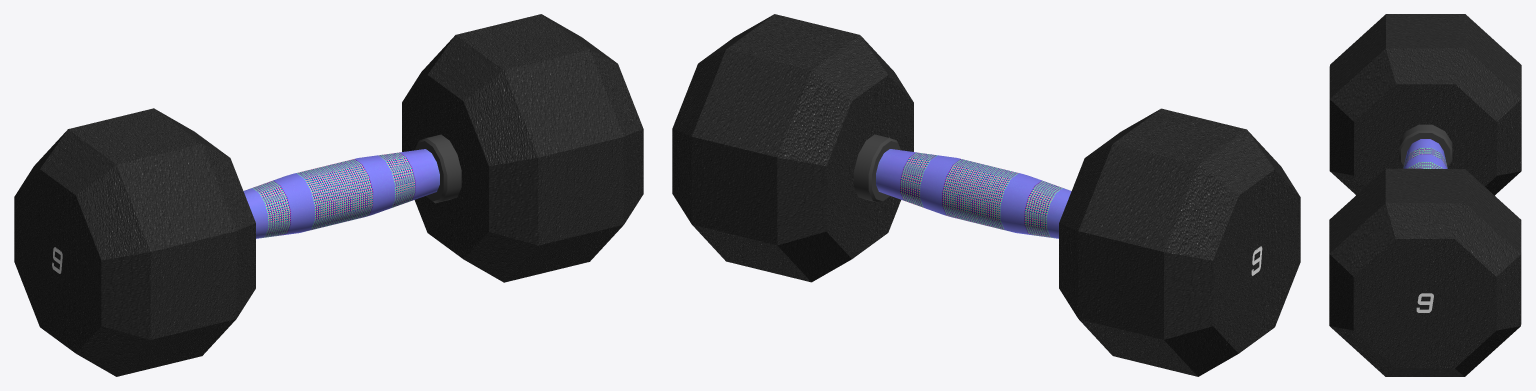
Rendered from Dumbbell_9kG.FBX.
The picture shows the model from 3 angles, left to right: view 1: azimuth 30°, elevation 25°; view 2: azimuth 150°, elevation 25°; view 3: azimuth 270°, elevation 25°; orthographic projection. The views are drawn at different scales.
Visible parts, largest first — view 1: Dumbbell_9kG; view 2: Dumbbell_9kG; view 3: Dumbbell_9kG.
Boxes of the visible parts, x1,y1,x2,y2 form: Dumbbell_9kG: [14, 14, 643, 376]; Dumbbell_9kG: [672, 14, 1300, 376]; Dumbbell_9kG: [1329, 14, 1521, 376].
Size of the model in its own units: 0.3454 by 0.1295 by 0.1292.
